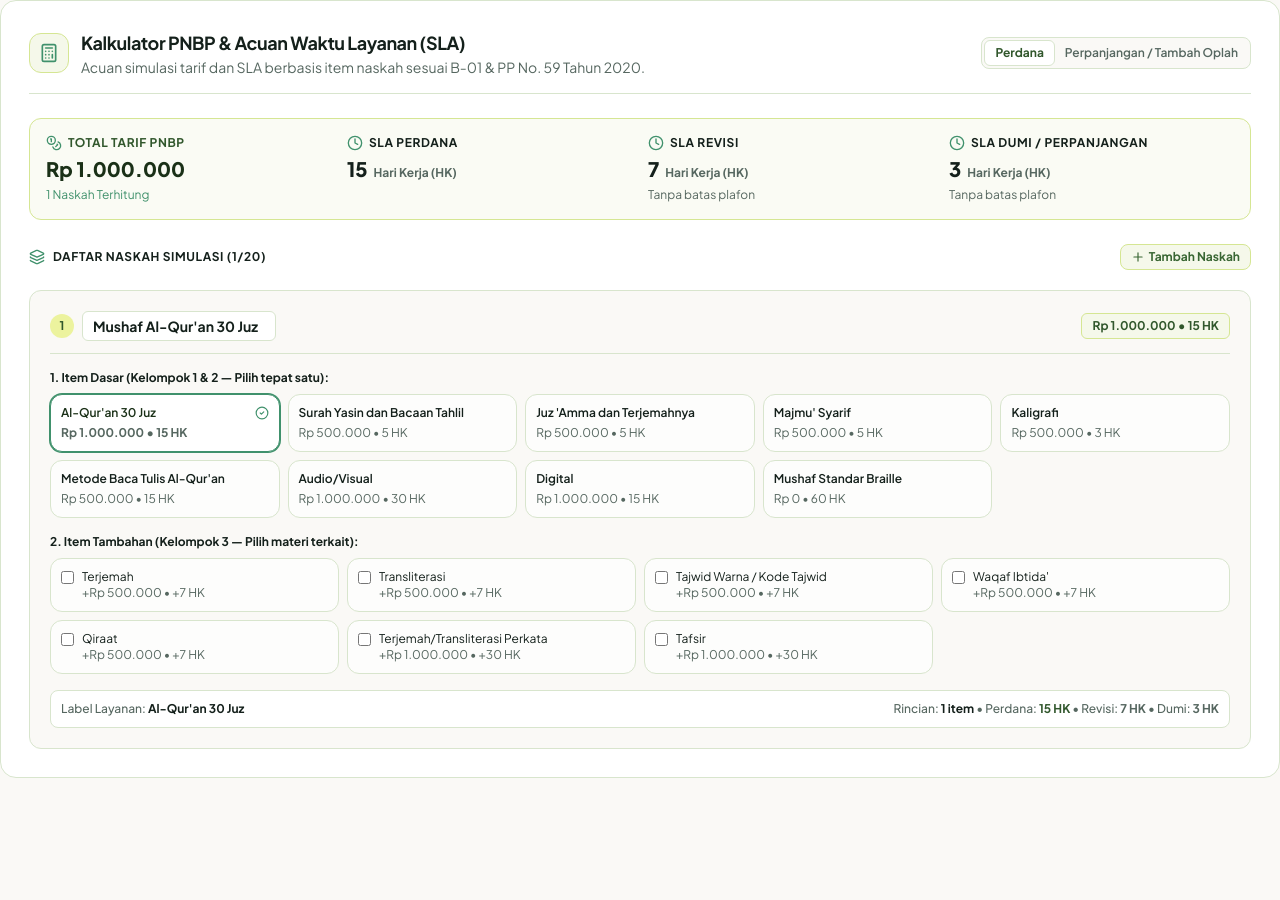
Scenario: B-01 Sesi 3: Verifier Workbench Calculator Tab (U-14) › B-01 CALC-3: Menghitung T5 - Absorpsi Terjemah oleh Perkata/Tafsir (Terjemah Rp 0 & 0 HK)
This screenshot has width=1280, height=900.
Note: Pilih Terjemah
Click the checkbox labelled "Terjemah". click: coordinates (68, 578)
box: [61,571,74,584]
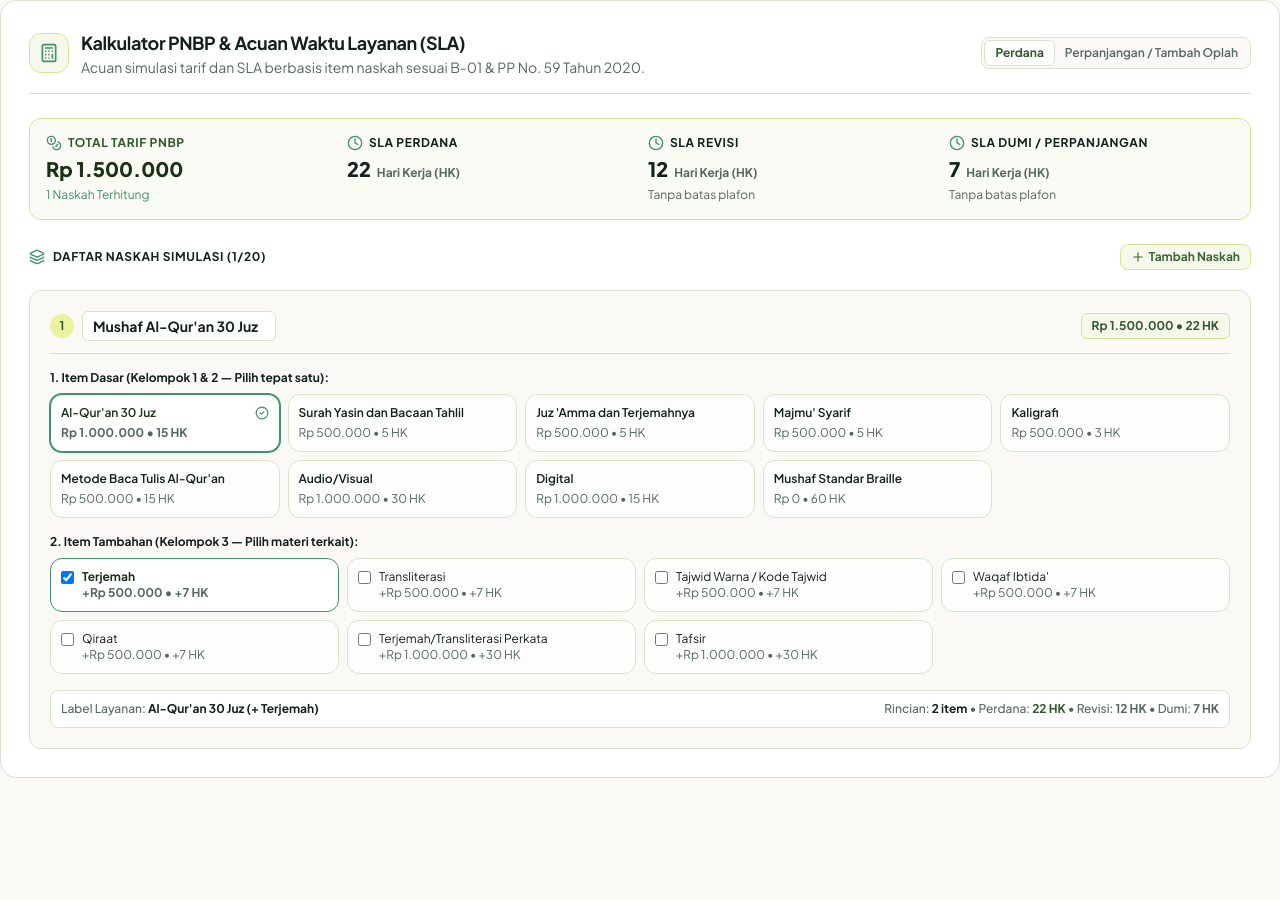
Click the checkbox labelled "Terjemah/Transliterasi Perkata". click: coordinates (364, 640)
box: [358,633,371,646]
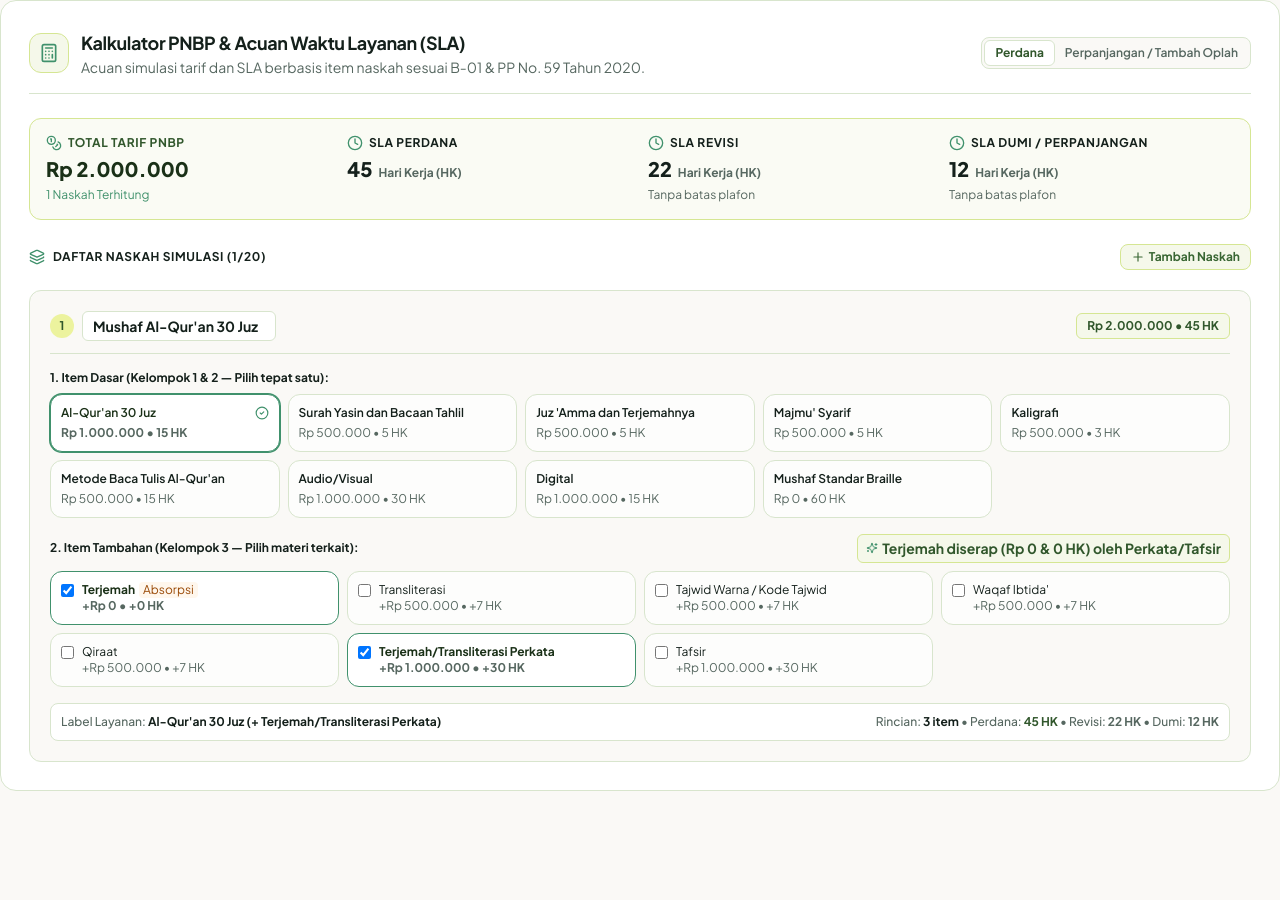
Expected: the text with test id "summary-total-fee" shows "2.000.000", [46,156,189,181]
Expected: the text with test id "summary-sla-initial" reads "45", [347,156,372,181]
Expected: the text "Terjemah diserap (Rp 0 & 0 HK) oleh Perkata/Tafsir" is shown, [857,534,1230,563]
